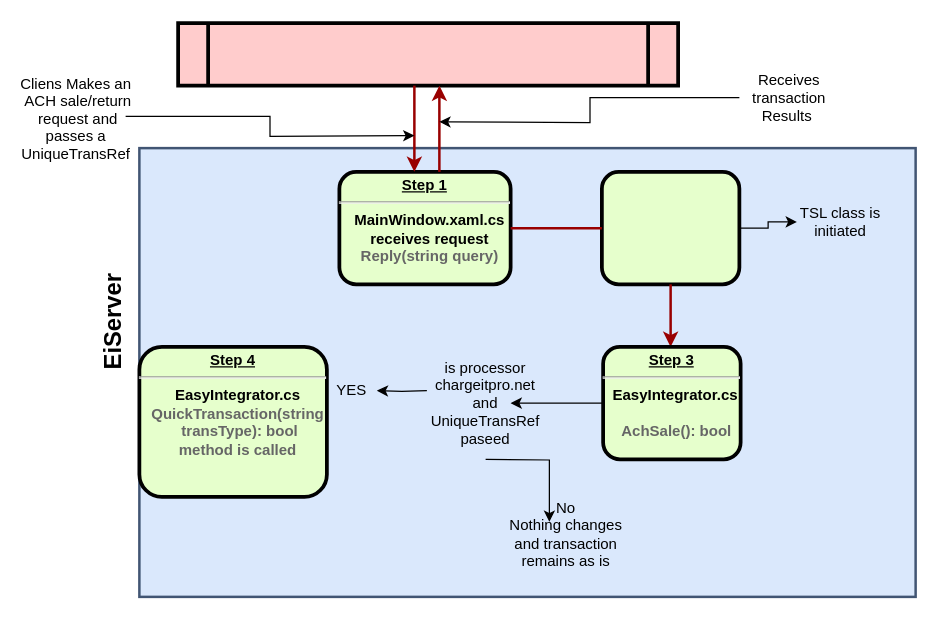
The diagram is 939 pixels wide and 620 high, and some of its shapes have lost their labels. Each missing label, with the box of its shape:
POS System/Server: (176, 21, 679, 87)
Step 2 EiManager.cs query(string xml): (599, 169, 741, 286)
